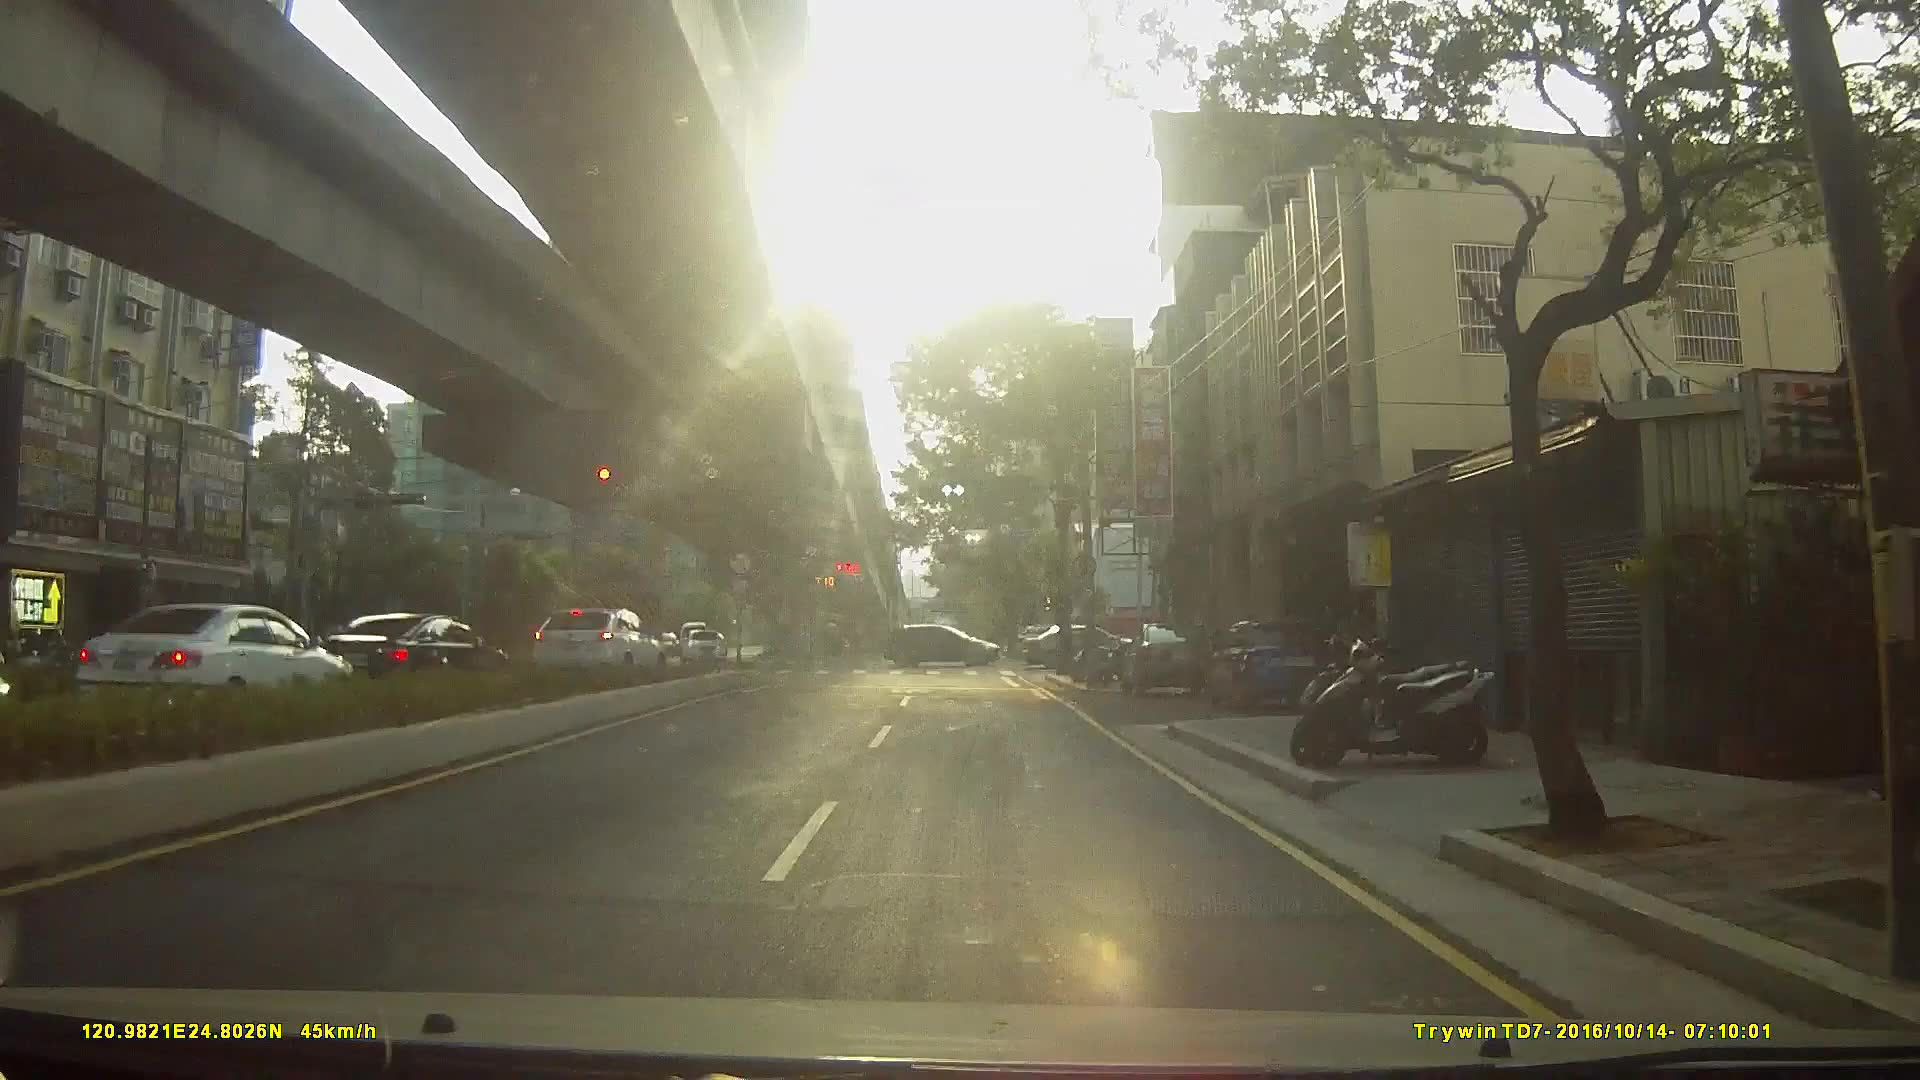vehicle: (66, 600, 357, 705), (311, 607, 509, 691), (1211, 613, 1342, 713), (524, 604, 665, 676), (1118, 616, 1217, 692), (886, 621, 1004, 665), (682, 624, 727, 662)
